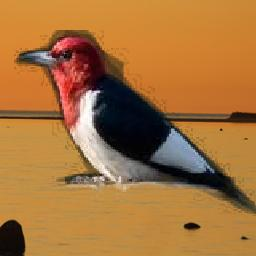Woodpecker: (12, 30, 256, 216)
